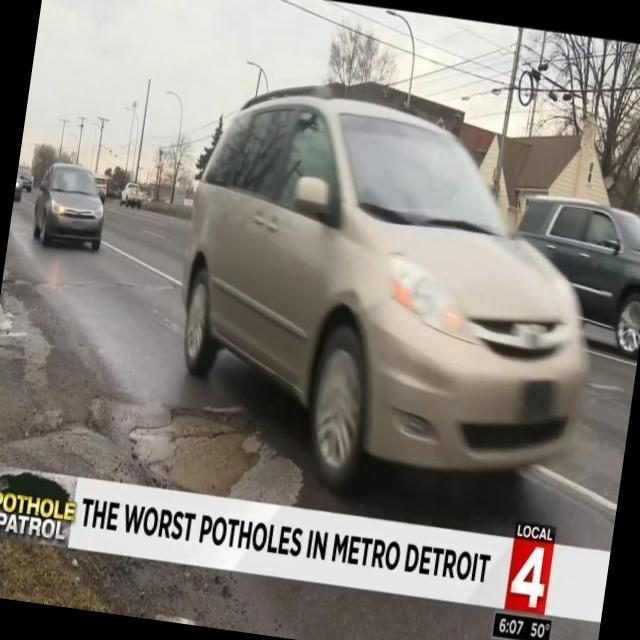Burst: (102, 401, 288, 499), (0, 293, 22, 343)
